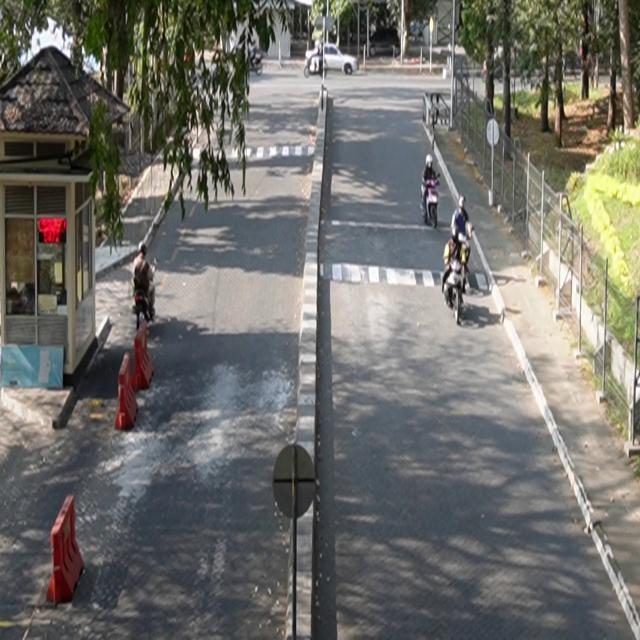car: (306, 44, 360, 76)
